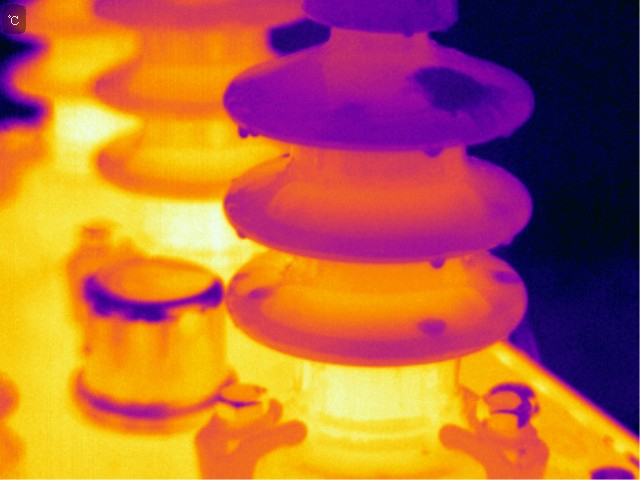Water: (409, 63, 489, 118), (486, 262, 527, 291), (412, 318, 451, 340), (500, 231, 526, 252), (396, 17, 416, 44), (419, 143, 446, 160), (234, 124, 258, 142), (425, 253, 448, 270), (234, 228, 247, 243)
